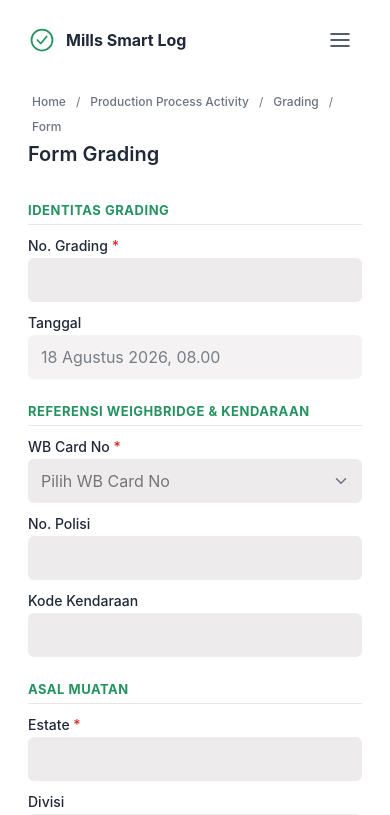
Test case: FormGradingView › populates the WB Card No dropdown from ALL local weighbridge_record rows
The image size is (390, 815).
Focus the dropdown labelled "WB Card No *" at (195, 481), box [28,459,362,503]
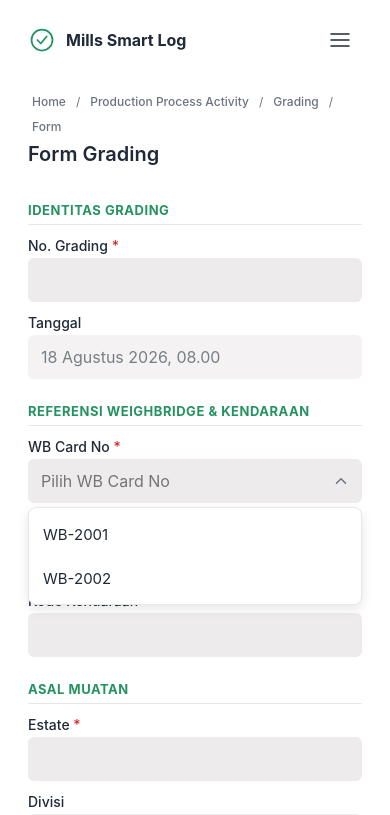
Now the text "WB-2001" is shown, box [43,524,108,544]
Now the text "WB-2002" is shown, box [43,568,111,588]
